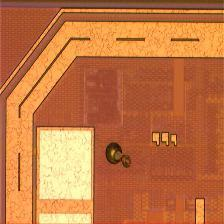PARTICLE: (103, 143, 135, 171)
